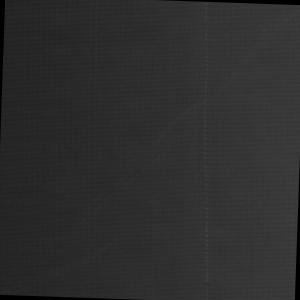Wrinkle: (82, 1, 300, 230), (5, 236, 120, 300)
